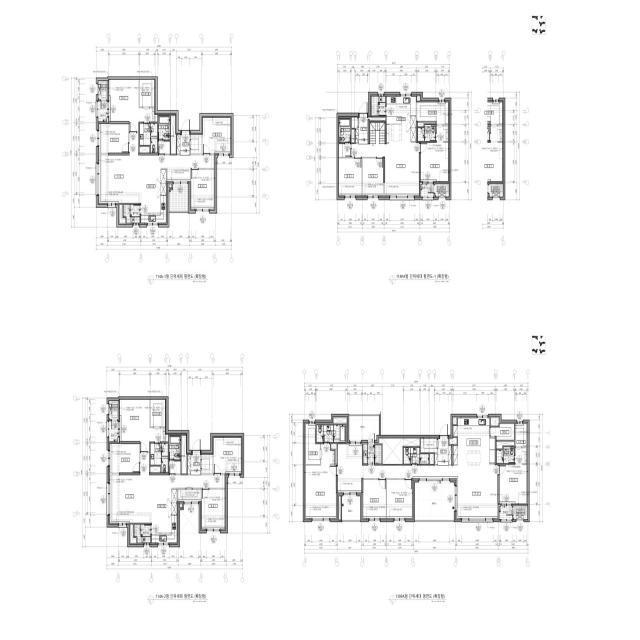space_balconi: (415, 482, 454, 520), (349, 417, 379, 440), (169, 186, 188, 211), (342, 496, 360, 520), (363, 444, 382, 464), (134, 525, 151, 543), (123, 205, 140, 223), (371, 97, 385, 116), (98, 101, 107, 122), (109, 421, 118, 441), (421, 184, 434, 197), (499, 507, 512, 519)
space_bedroom: (120, 400, 165, 452), (109, 80, 154, 132), (306, 444, 336, 518), (499, 448, 527, 504), (421, 126, 449, 181), (214, 437, 242, 473), (203, 117, 231, 153), (387, 480, 412, 518), (202, 490, 226, 529), (191, 170, 215, 209), (363, 480, 386, 518), (339, 158, 362, 196), (110, 444, 139, 473), (99, 124, 128, 153), (363, 158, 383, 196)
space_dressroom: (417, 102, 449, 125), (306, 424, 320, 464), (150, 400, 165, 427), (140, 80, 155, 107), (515, 424, 527, 447)
space_front: (435, 439, 451, 465), (355, 118, 368, 144), (188, 453, 201, 475), (177, 135, 190, 155)
space_kitchen: (453, 418, 495, 464), (386, 96, 416, 143), (152, 489, 177, 543), (141, 169, 166, 223)
space_living_room: (338, 444, 498, 518), (110, 453, 226, 523), (99, 133, 215, 203), (352, 143, 419, 196)
space_other: (379, 439, 420, 464), (491, 424, 514, 440), (370, 122, 385, 144), (167, 168, 190, 182), (178, 489, 201, 501), (421, 439, 437, 453), (202, 454, 213, 473), (191, 135, 202, 154), (182, 436, 187, 474), (171, 116, 176, 154), (169, 461, 181, 474), (339, 144, 351, 157), (158, 142, 170, 154), (331, 444, 337, 464), (497, 442, 514, 449), (119, 205, 125, 224), (130, 525, 136, 543), (418, 122, 436, 127), (334, 418, 346, 424), (352, 117, 358, 128), (491, 418, 499, 426), (370, 117, 385, 121), (339, 496, 341, 520), (450, 438, 457, 444), (430, 454, 434, 464), (352, 130, 354, 143), (453, 418, 457, 424), (166, 434, 168, 442), (155, 114, 157, 122), (417, 96, 420, 101), (169, 184, 171, 188), (180, 504, 182, 507)
space_outdoor_room: (513, 506, 528, 519), (435, 184, 449, 197), (98, 81, 107, 100), (109, 401, 118, 419)
space_toilet: (150, 443, 168, 473), (139, 124, 157, 153), (317, 425, 345, 442), (404, 448, 429, 464), (169, 436, 181, 461), (158, 116, 170, 140), (418, 125, 435, 141), (497, 447, 514, 463), (339, 119, 350, 142)
